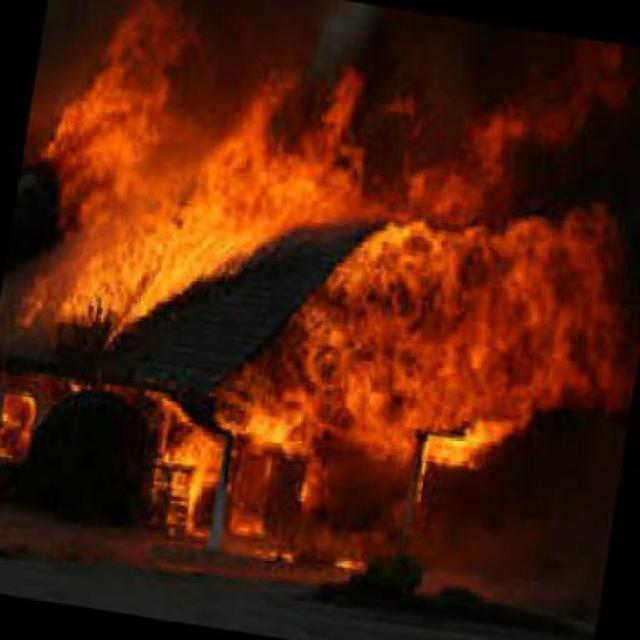Fire: (35, 10, 612, 564)
